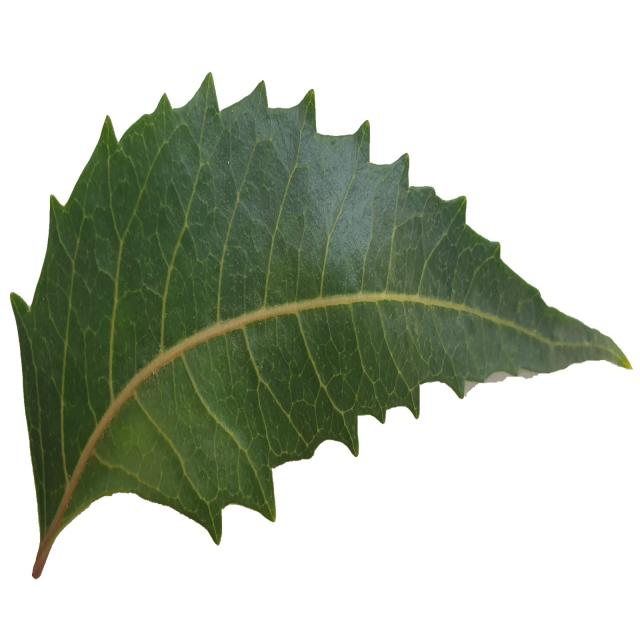Medicinal-Neem: (6, 66, 633, 580)
